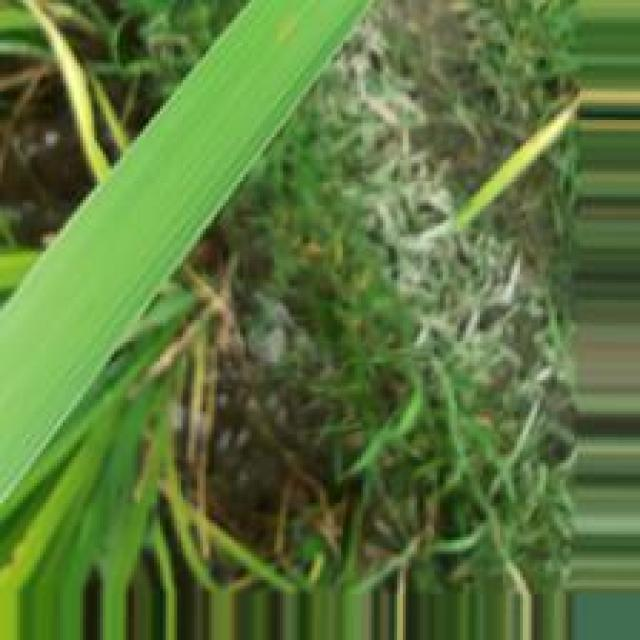HealthyLeaf: (0, 0, 385, 502)
